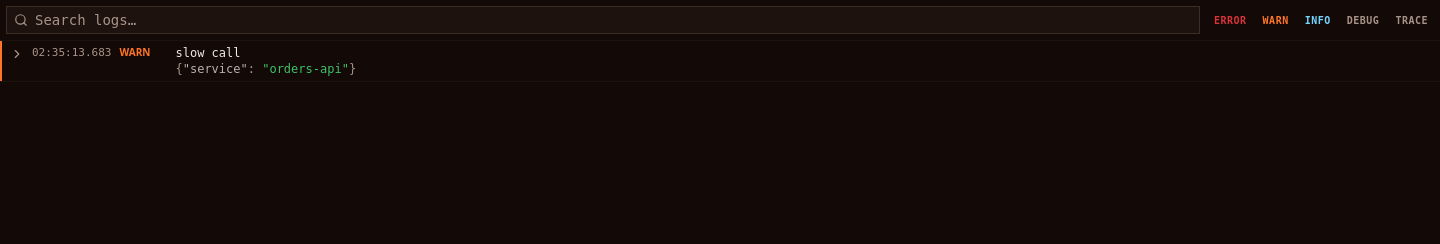
Scenario: expands a structured line into a tree of its attributes
Click the button named "Expand log entry" at {"x": 17, "y": 54}, box [10,47,24,61]
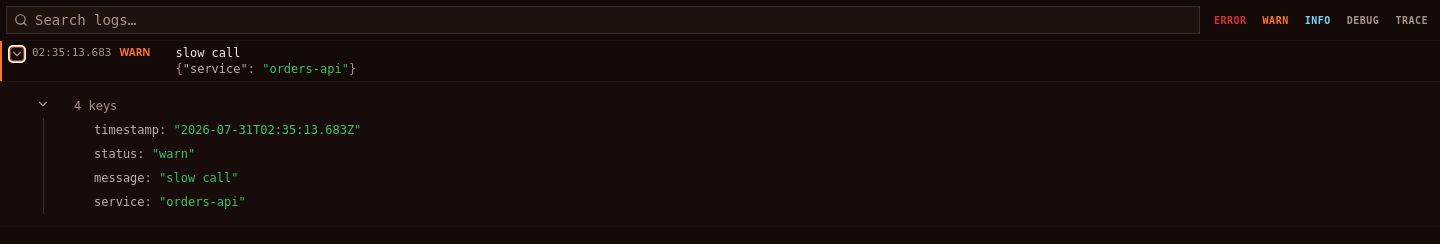
Now the text "service" is shown, box [94,195,145,209]
Now the text "\"slow call\"" is shown, box [159,171,238,185]
